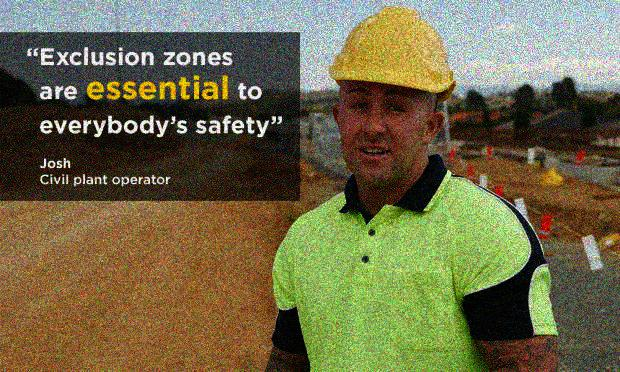helmet: (324, 7, 456, 183)
